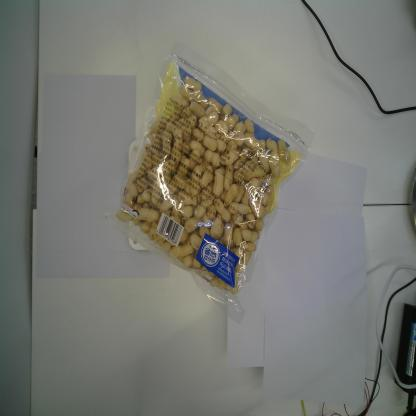Dried Food: (105, 37, 308, 322)
